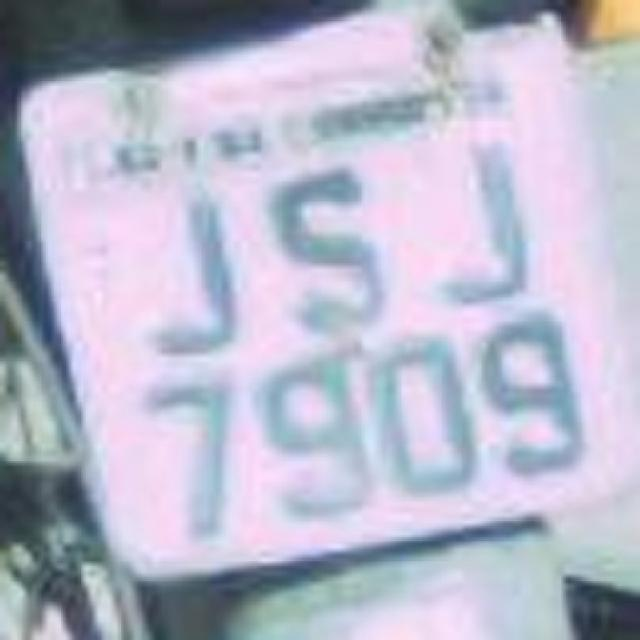0: (340, 304, 512, 508)
7: (112, 356, 276, 556)
9: (224, 332, 408, 528), (460, 280, 605, 495)
J: (111, 175, 264, 380), (400, 131, 548, 304)
S: (240, 156, 408, 336)
